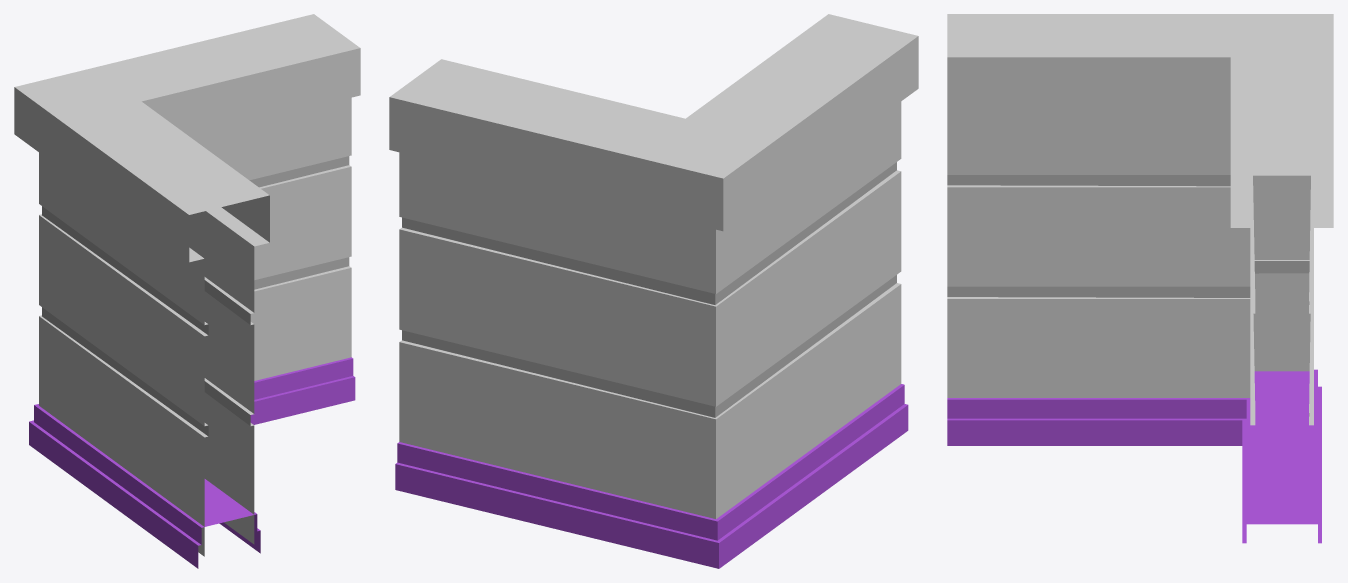
File: Arc90.fbx
3 views of the same model, side by side, from view 1: azimuth 30°, elevation 25°; view 2: azimuth 150°, elevation 25°; view 3: azimuth 270°, elevation 25° (orthographic). The views are drawn at different scales.
Visible parts, largest first — view 1: Base, Under_Base; view 2: Base, Under_Base; view 3: Base, Under_Base.
Boxes of the visible parts, x1,y1,x2,y2 form: Base: (14, 14, 360, 556); Under_Base: (29, 357, 355, 568); Base: (389, 14, 918, 518); Under_Base: (395, 384, 908, 568); Base: (947, 14, 1333, 425); Under_Base: (947, 369, 1321, 543).
Size of the model in its own units: 3.88 by 4.4 by 3.92.
